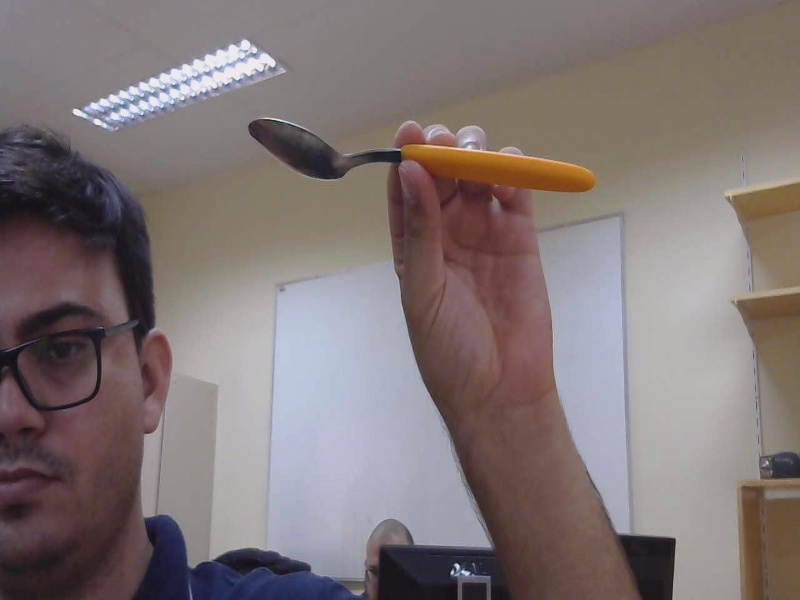cuchara: (239, 98, 603, 220)
